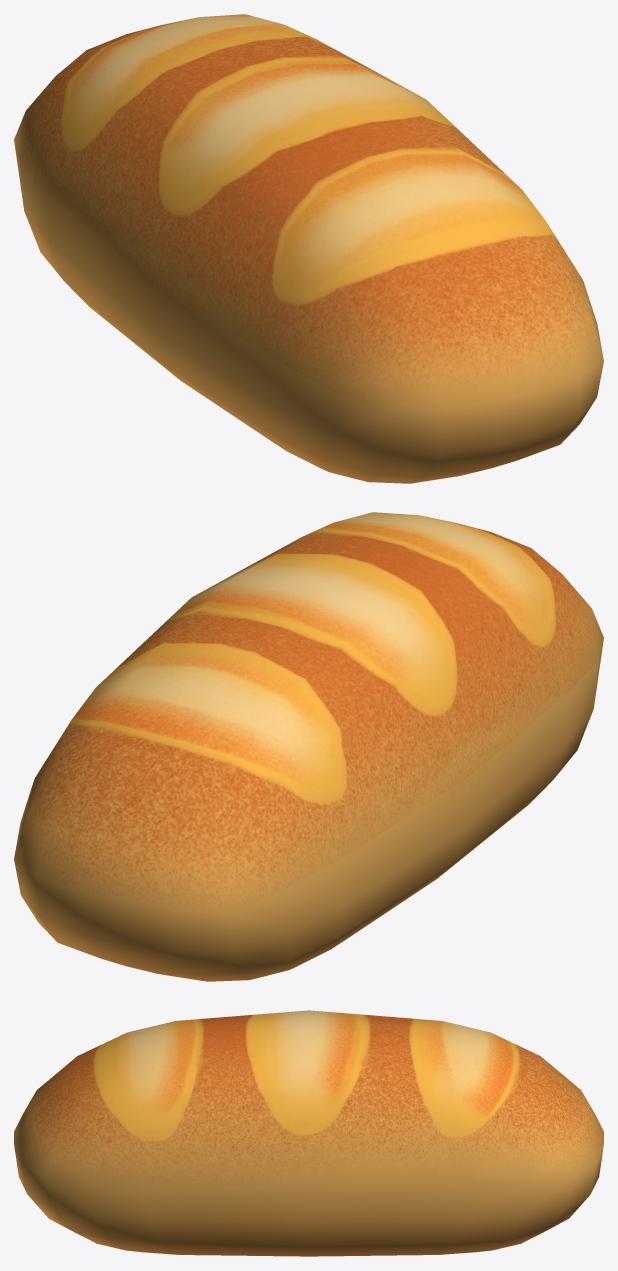
The model's file is bread.fbx.
3 renders of one model, top to bottom at view 1: azimuth 30°, elevation 25°; view 2: azimuth 150°, elevation 25°; view 3: azimuth 270°, elevation 25°, orthographic. The views are drawn at different scales.
Visible parts, largest first — view 1: Box003; view 2: Box003; view 3: Box003.
Boxes of the visible parts, left/top/right/bottom form: Box003: left=14, top=14, right=603, bottom=483; Box003: left=14, top=512, right=603, bottom=981; Box003: left=14, top=1010, right=603, bottom=1256.
Size of the model in its own units: 11.37 by 9.61 by 26.02.
